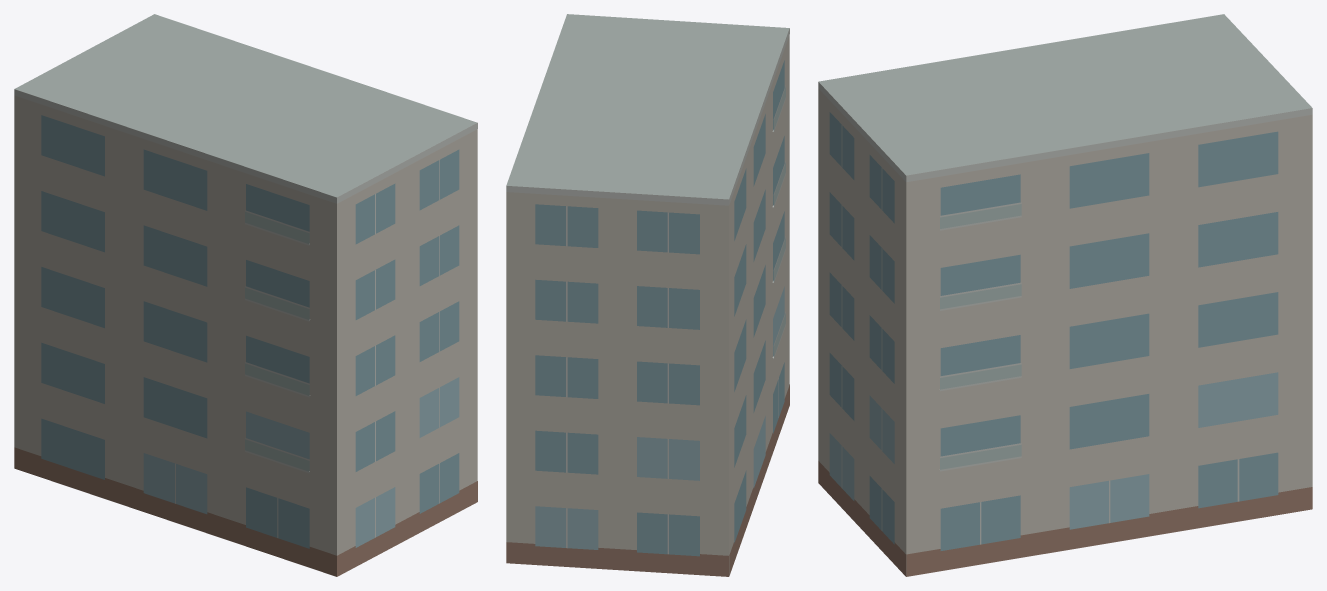
Rendered from survey-upis-32886630.glb.
3 renders of one model, left to right at view 1: azimuth 30°, elevation 25°; view 2: azimuth 150°, elevation 25°; view 3: azimuth 270°, elevation 25°, orthographic. The views are drawn at different scales.
Parts seen in each view (by area): view 1: survey-upis-32886630.tmp; view 2: survey-upis-32886630.tmp; view 3: survey-upis-32886630.tmp.
Boxes of the visible parts, box(x1,y1,x2,y2) form: survey-upis-32886630.tmp: box(14, 14, 477, 576); survey-upis-32886630.tmp: box(506, 14, 789, 576); survey-upis-32886630.tmp: box(818, 14, 1312, 576).
Bounding box in the file's own units: 12.71 × 14.7 × 16.42.
